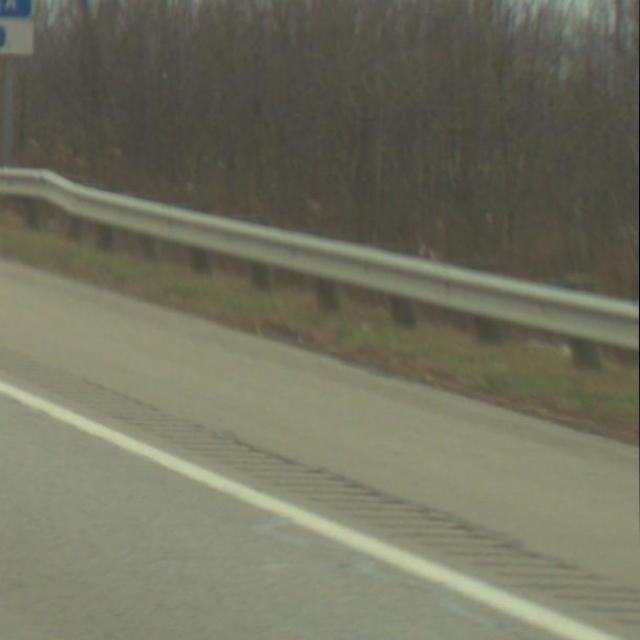Guard rail: (0, 160, 640, 382)
